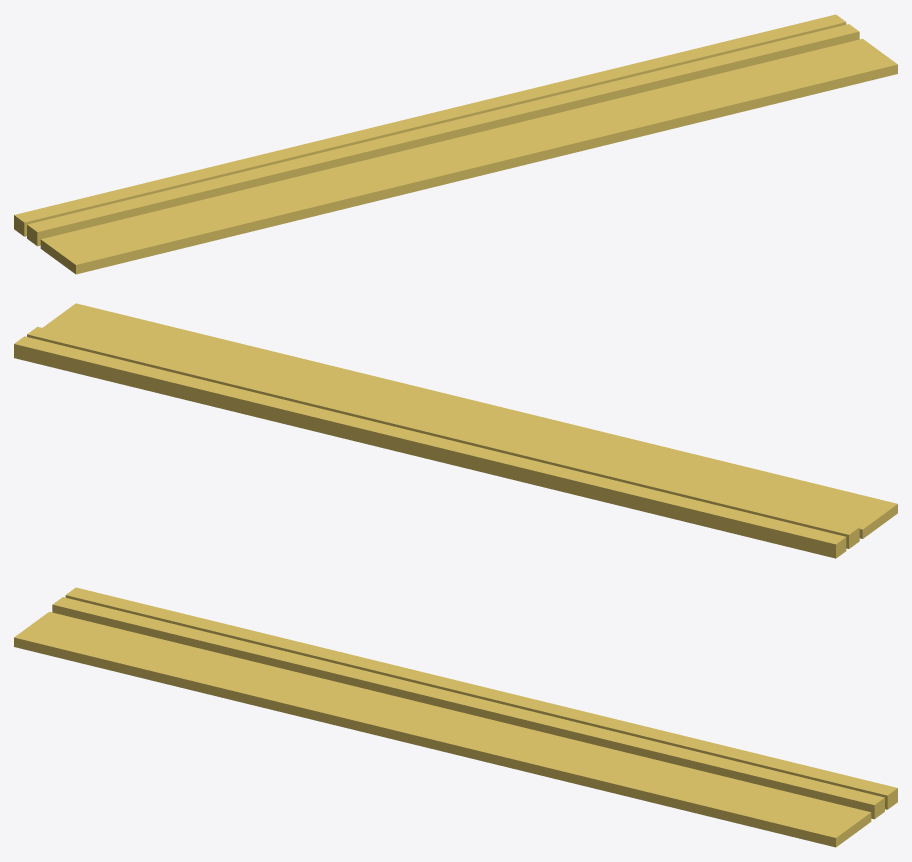
The model's file is chair4.glb.
3 renders of one model, top to bottom at view 1: azimuth 30°, elevation 25°; view 2: azimuth 150°, elevation 25°; view 3: azimuth 330°, elevation 25°, orthographic.
Parts seen in each view (by area): view 1: beam1.002, pillar2.002, pillar1.001; view 2: beam1.002, pillar1.001, pillar2.002; view 3: beam1.002, pillar2.002, pillar1.001.
Part boxes in pixels (bbox=[...]): beam1.002: bbox=[40, 38, 897, 274]; pillar2.002: bbox=[27, 24, 859, 246]; pillar1.001: bbox=[14, 14, 846, 236]; beam1.002: bbox=[42, 303, 897, 538]; pillar1.001: bbox=[14, 336, 846, 558]; pillar2.002: bbox=[27, 326, 859, 548]; beam1.002: bbox=[14, 611, 871, 847]; pillar2.002: bbox=[52, 597, 884, 819]; pillar1.001: bbox=[65, 587, 897, 809].
Size of the model in its own units: 1.82 by 0.03 by 0.2375.
